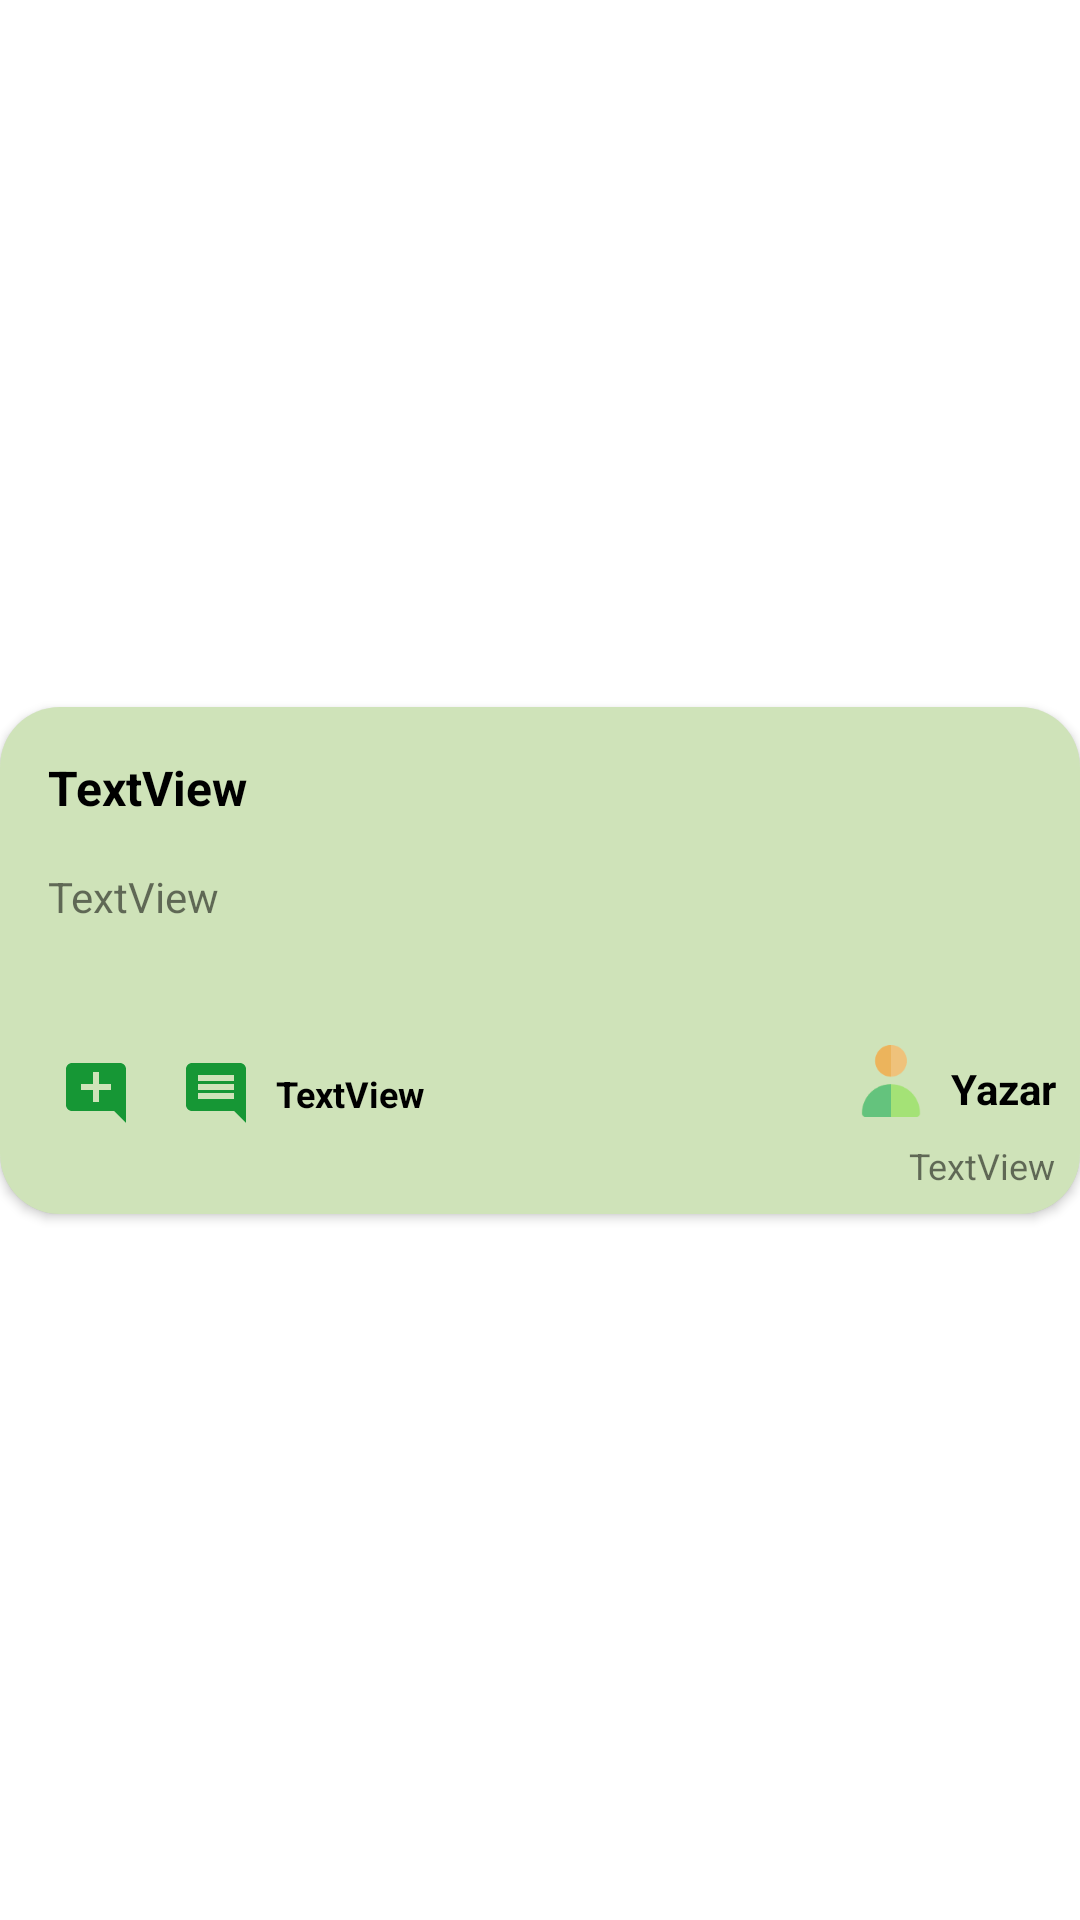

Named icons in this screenshot (1080px×1920px) and their centers, (x=x, y=y):
add comment: (x=96, y=1093)
comment: (x=216, y=1093)
user profile: (x=891, y=1081)
